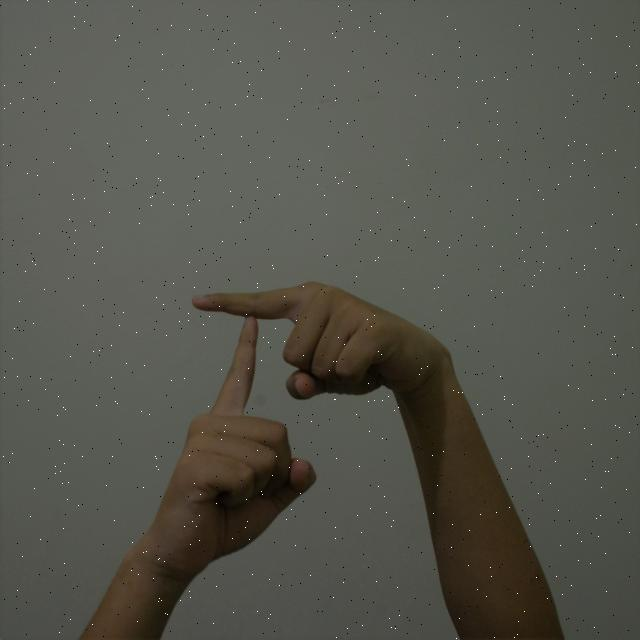T: (133, 238, 507, 586)
